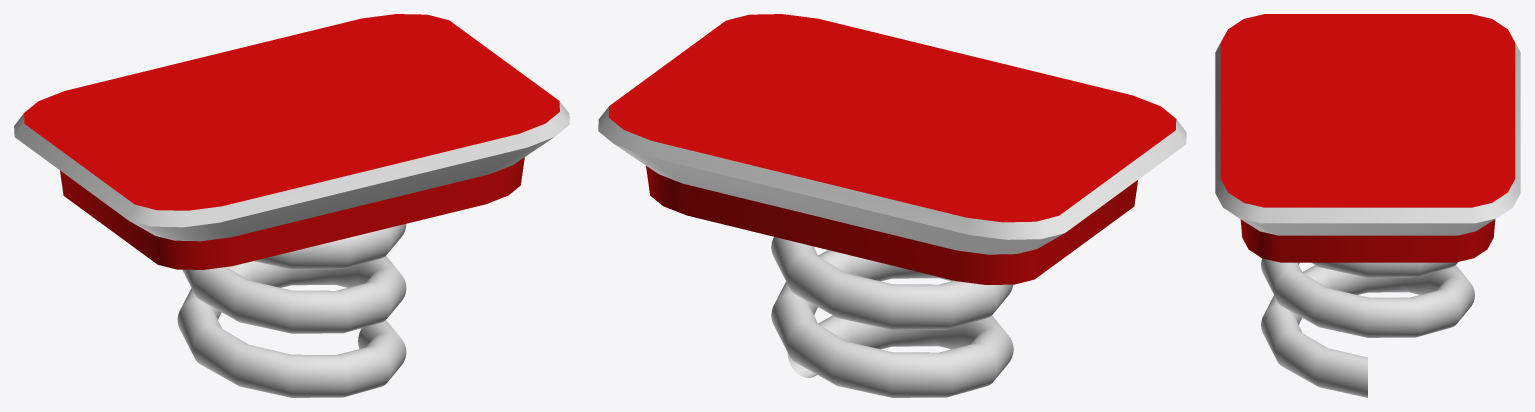
File: rampnstring_obstacle.fbx
The picture shows the model from 3 angles, left to right: view 1: azimuth 30°, elevation 25°; view 2: azimuth 150°, elevation 25°; view 3: azimuth 270°, elevation 25°; orthographic projection. The views are drawn at different scales.
Visible parts, largest first — view 1: platform_obstacle, metal_spring; view 2: platform_obstacle, metal_spring; view 3: platform_obstacle, metal_spring.
Part boxes in pixels (<box>): platform_obstacle: <box>14,14,569,269</box>; metal_spring: <box>177,224,406,397</box>; platform_obstacle: <box>598,14,1186,284</box>; metal_spring: <box>771,237,1013,397</box>; platform_obstacle: <box>1215,14,1520,262</box>; metal_spring: <box>1261,258,1474,397</box>.
Size of the model in its own units: 148 by 85.12 by 95.06.
